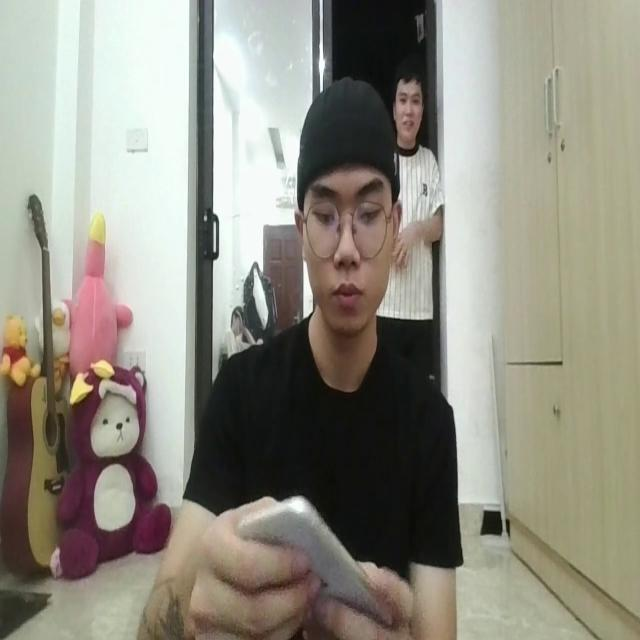phone: (229, 482, 397, 634)
student: (176, 68, 456, 640)
